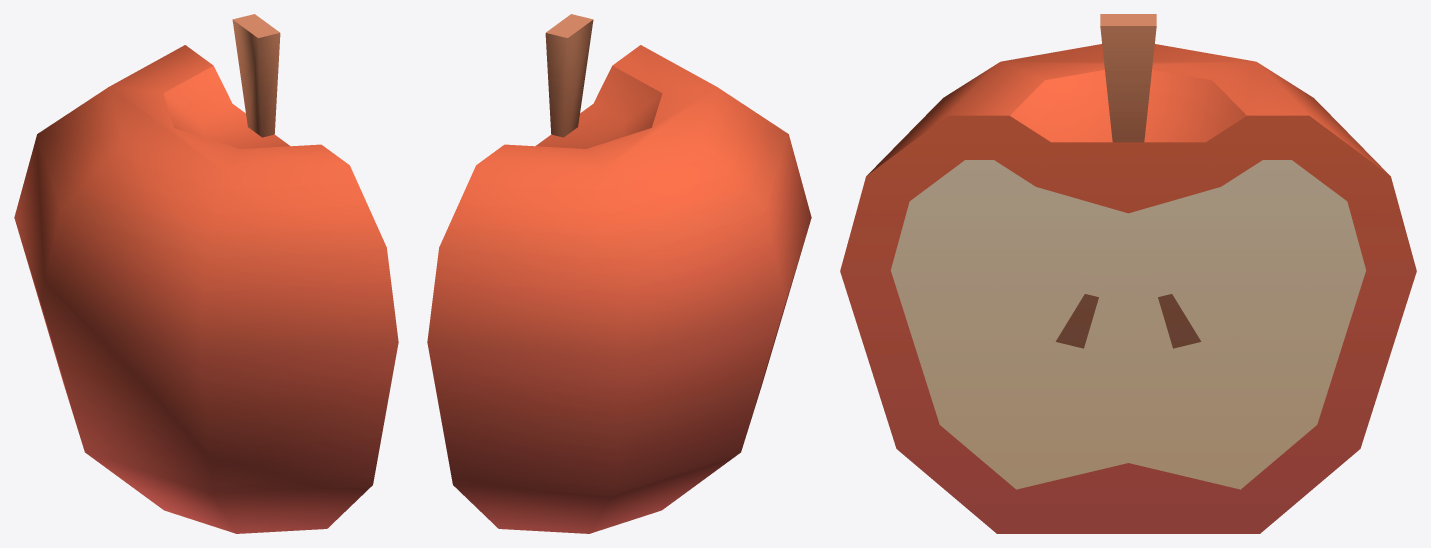
The model's file is applehalf.glb.
3 views of the same model, side by side, from view 1: azimuth 30°, elevation 25°; view 2: azimuth 150°, elevation 25°; view 3: azimuth 270°, elevation 25° (orthographic). The views are drawn at different scales.
Visible parts, largest first — view 1: apple-half; view 2: apple-half; view 3: apple-half.
Boxes of the visible parts, x1,y1,x2,y2 form: apple-half: (14, 14, 398, 533); apple-half: (427, 14, 811, 533); apple-half: (840, 14, 1416, 533).
Size of the model in its own units: 0.0463 by 0.09 by 0.0926.
Materials: 1 (1 with a texture image).
